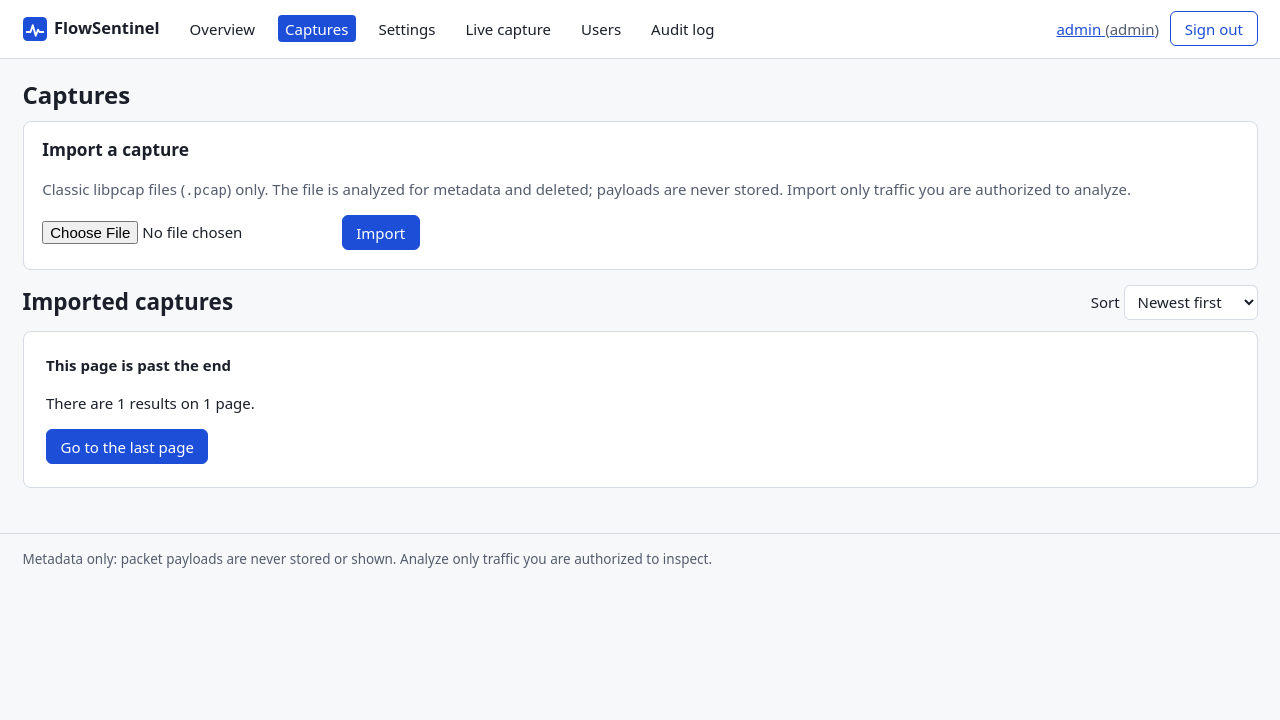
it: Captures › offers the last page when the address points past the end
Expected: the text "This page is past the end" is shown, [46,355,231,375]
Step 1. Click the button "Go to the last page" → (127, 447), box [46,429,208,464]
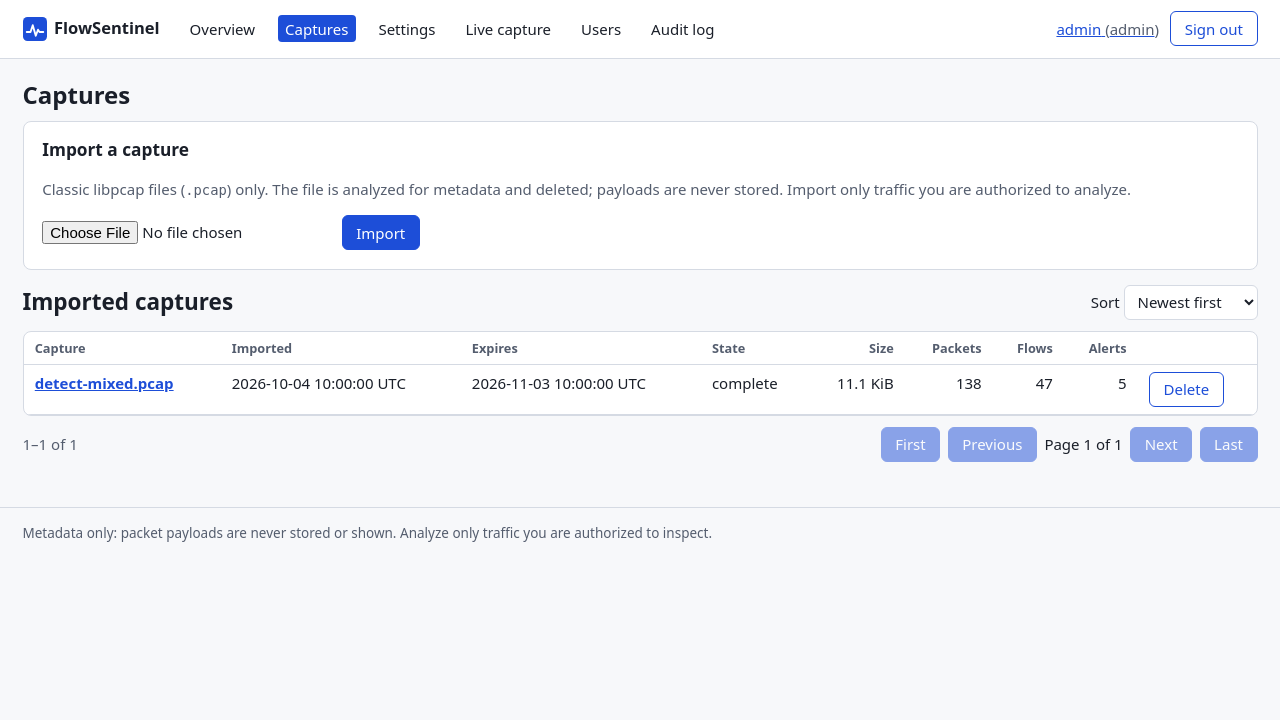
Expected: the link "detect-mixed.pcap" is shown, [35,373,174,393]
